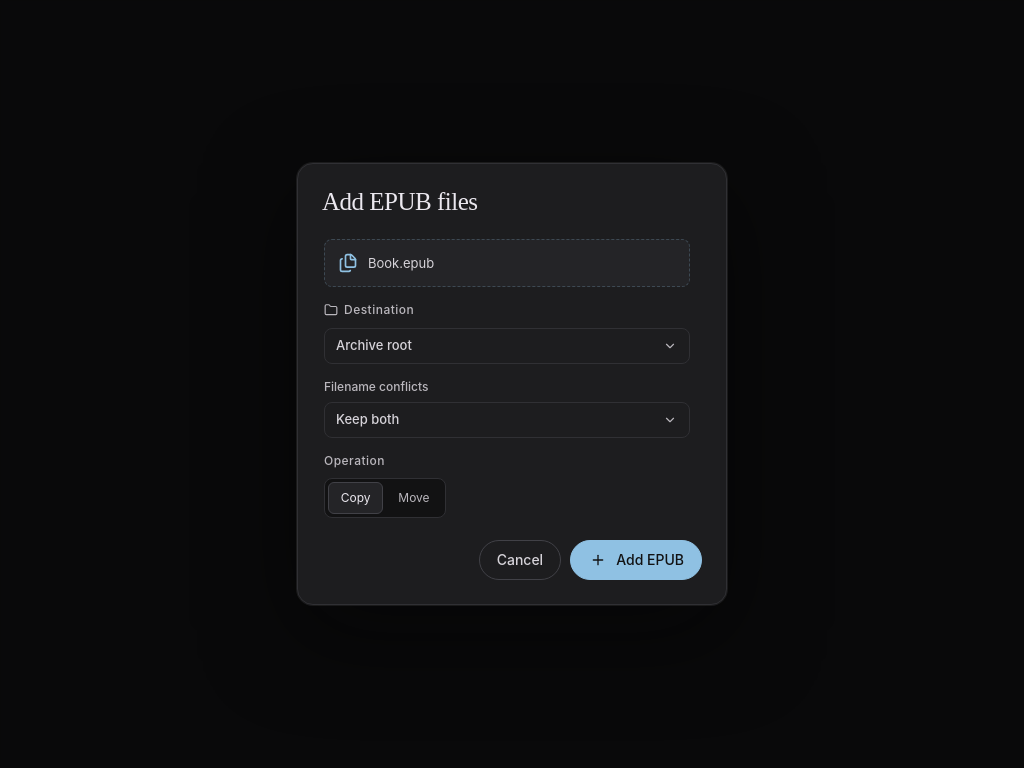
Test: AddEpubDialog replacement confirmation › sends a changed destination for the current import
The width and height of the screenshot is (1024, 768).
Step 1. Click the dropdown with id "add-epub-destination-button" → coordinates (374, 345), box [324,328,690,364]
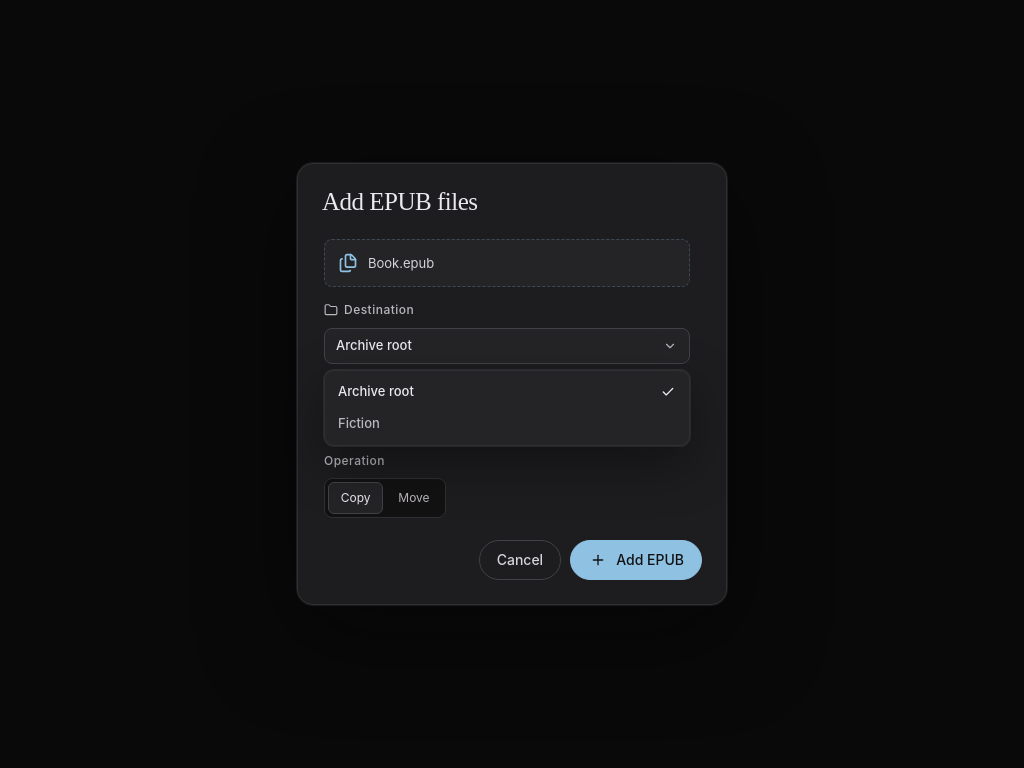
Step 2. Click the option "Fiction" → coordinates (359, 423), box [330,408,684,440]
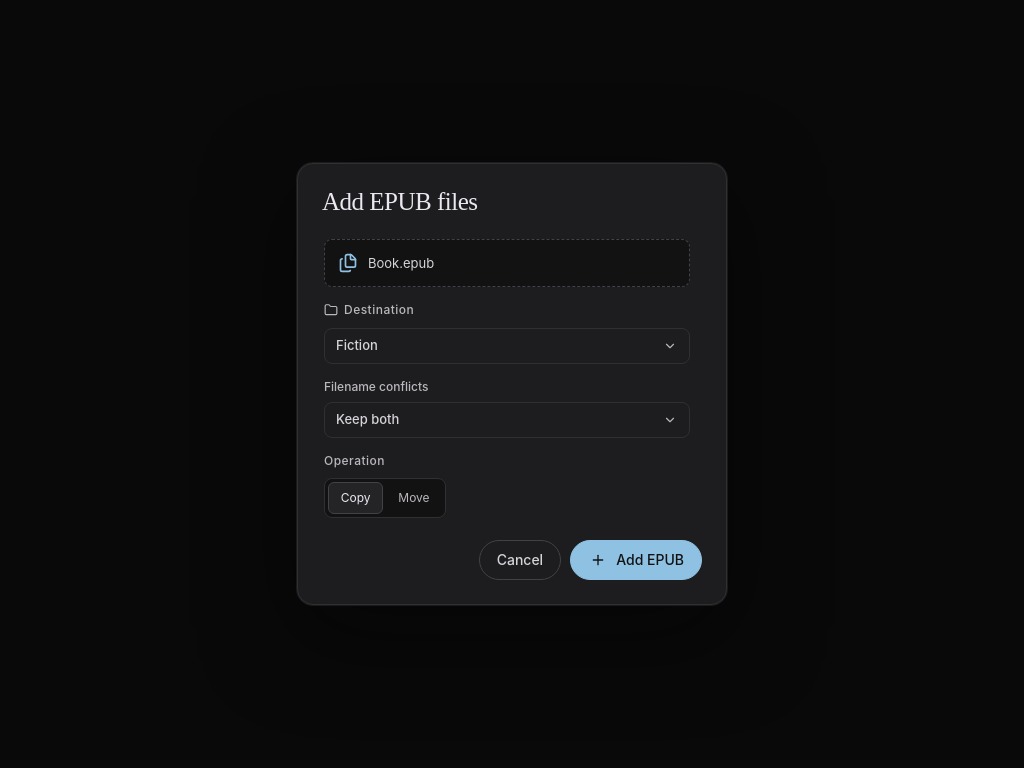
Step 3. Click the button "Add EPUB" → coordinates (636, 560), box [570,540,702,580]
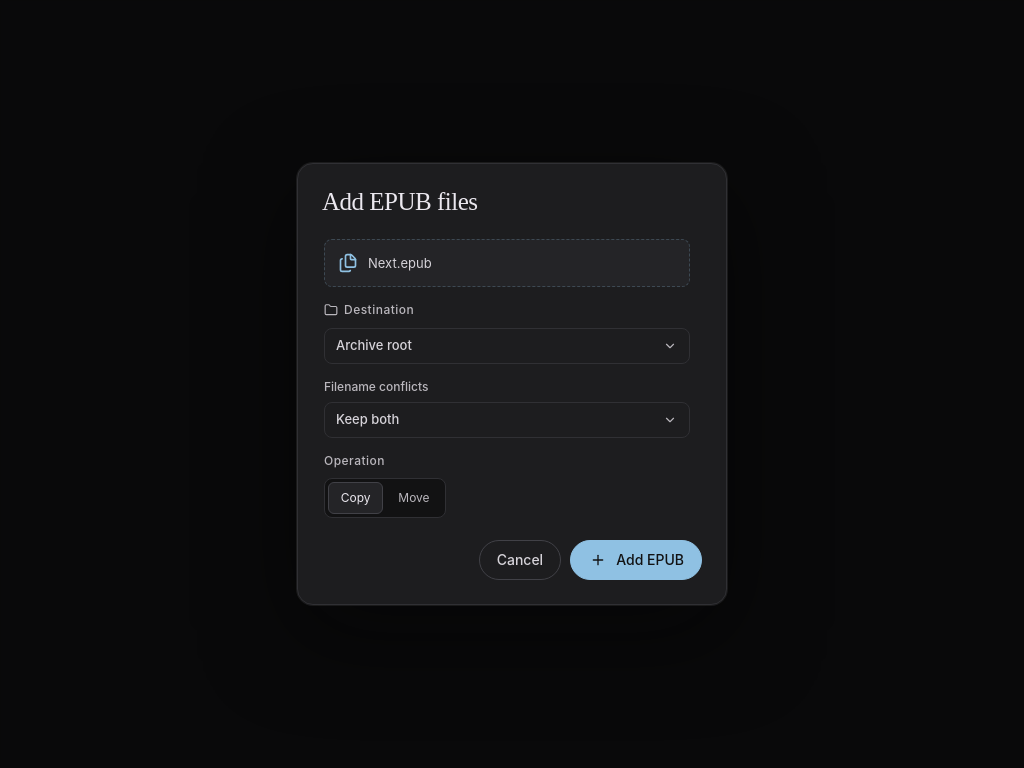
Now the dropdown with id "add-epub-destination-button" reads "Archive root", box [324,328,690,364]
